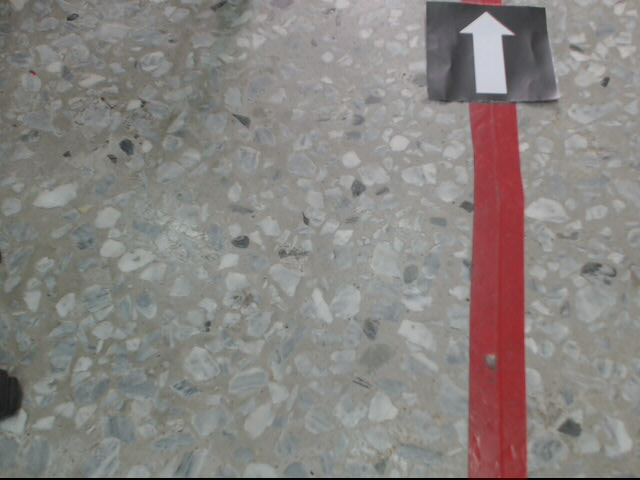straight: (424, 2, 558, 104)
